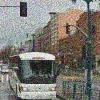buses: (7, 51, 60, 100)
